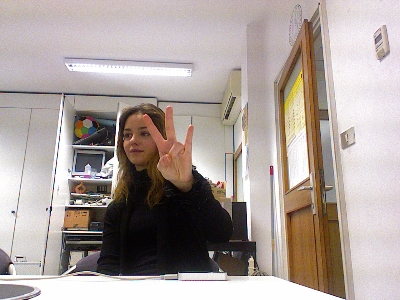观音: (141, 103, 195, 184)
